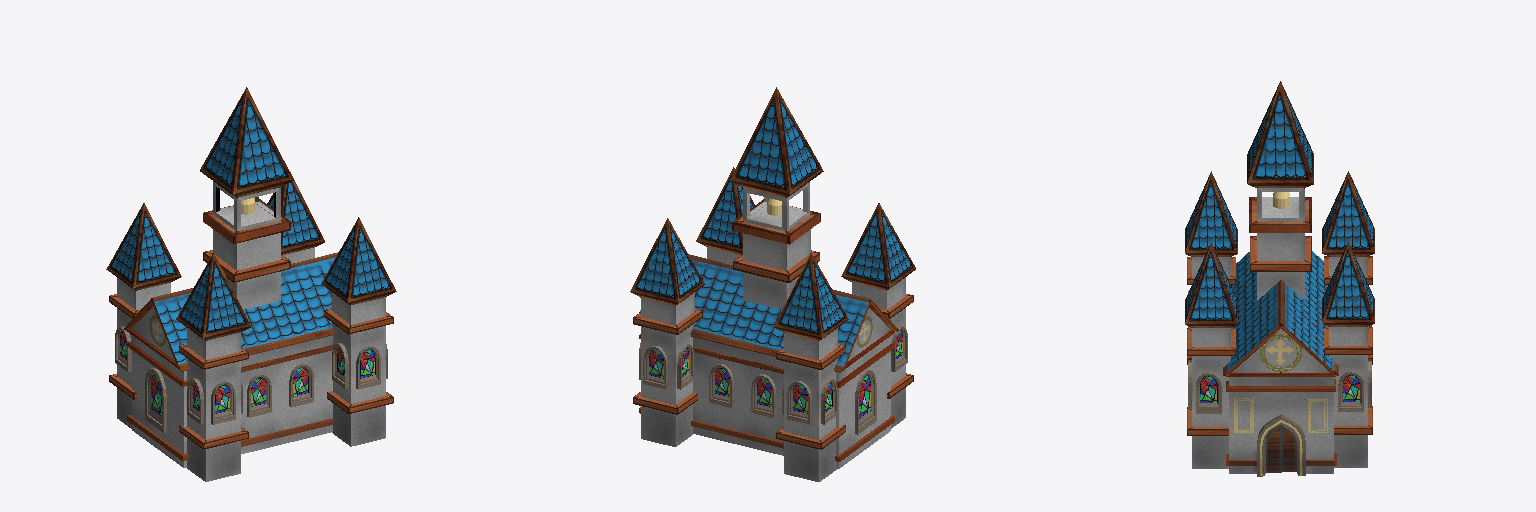
3 renders of one model, left to right at view 1: azimuth 30°, elevation 25°; view 2: azimuth 150°, elevation 25°; view 3: azimuth 270°, elevation 25°, orthographic.
Parts seen in each view (by area): view 1: Steeple.001, Church Walls, Roof, Column_V1 (3), Column_V1 (2), Column_Bell, Window (2), Steeple, Column_V1 (1), Window (6), Window (4), Window (5) (+1 smaller); view 2: Steeple.001, Church Walls, Roof, Column_V1 (1), Column_V1, Column_Bell, Window (2), Steeple, Column_V1 (3), Window (7), Window, Window (1) (+1 smaller); view 3: Steeple.001, Church Walls, Roof, Column_V1 (2), Column_V1, Column_Bell, Steeple, Wall Feature, Door Arch, Window (7), Window (6), Door (+3 smaller).
Part boxes in pixels (x1,y1,x2,y2): Steeple.001: (106,87,396,340); Church Walls: (123,306,333,467); Roof: (124,252,338,370); Column_V1 (3): (179,328,248,481); Column_V1 (2): (324,292,393,446); Column_Bell: (203,229,290,309); Window (2): (145,346,380,432); Steeple: (203,181,290,243); Column_V1 (1): (109,278,170,428); Window (6): (187,343,348,423); Window (4): (247,374,271,417); Window (5): (289,363,313,407); Steeple.001: (630,87,915,340); Church Walls: (639,308,898,468); Roof: (639,254,898,371); Column_V1 (1): (776,328,845,481); Column_V1: (633,292,702,446); Column_Bell: (733,229,819,309); Window (2): (643,346,876,434); Steeple: (732,182,820,244); Column_V1 (3): (852,277,913,428); Window (7): (677,343,837,424); Window: (709,364,733,407); Window (1): (751,374,775,417); Steeple.001: (1185,81,1374,327); Church Walls: (1226,329,1336,473); Roof: (1223,251,1338,375); Column_V1 (2): (1187,328,1235,468); Column_V1: (1324,327,1372,467); Column_Bell: (1250,233,1311,300); Steeple: (1249,188,1311,232); Wall Feature: (1260,333,1301,372); Door Arch: (1257,414,1305,476); Window (7): (1196,372,1221,413); Window (6): (1338,371,1363,411); Door: (1266,425,1281,472).
Size of the model in its own units: 26.84 by 42.38 by 21.37.
Materials: 1 (1 with a texture image).